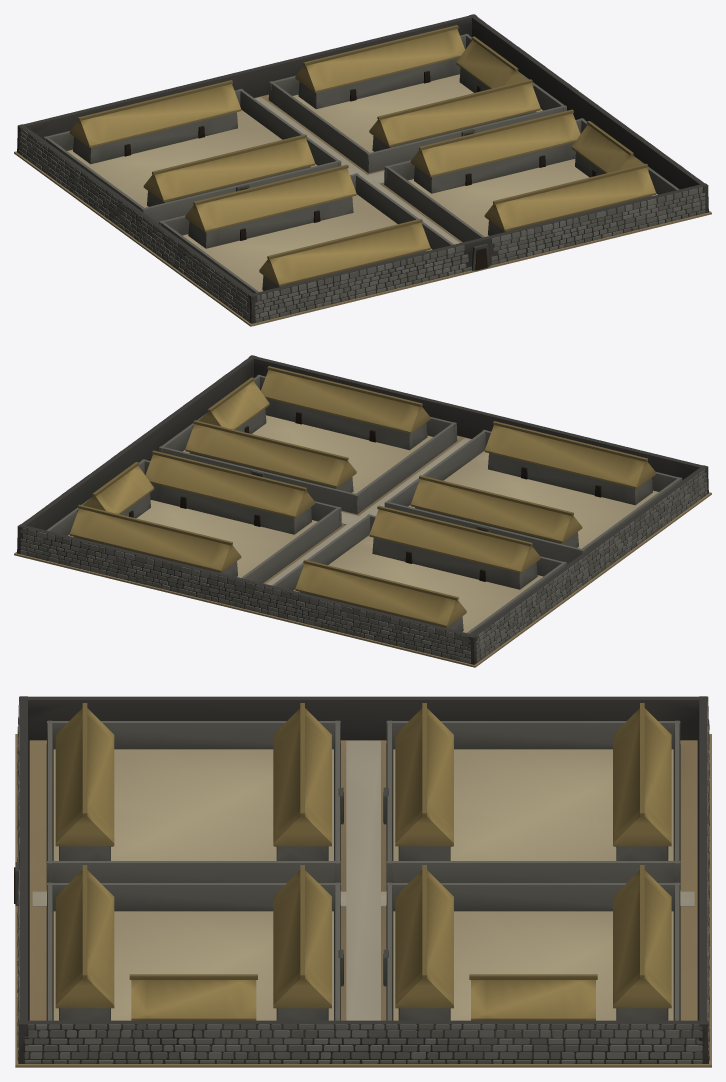
The model's file is hatunkancha.glb.
3 views of the same model, one above another, from view 1: azimuth 30°, elevation 25°; view 2: azimuth 150°, elevation 25°; view 3: azimuth 270°, elevation 25° (orthographic). The views are drawn at different scales.
Parts seen in each view (by area): view 1: p1_walls, p2_roofs, p0_ground; view 2: p1_walls, p2_roofs, p0_ground; view 3: p1_walls, p2_roofs, p0_ground.
Part boxes in pixels (box(x1,y1,x2,y2)): p1_walls: box(17, 14, 708, 323); p2_roofs: box(69, 25, 656, 286); p0_ground: box(14, 94, 711, 326); p1_walls: box(17, 355, 708, 664); p2_roofs: box(69, 366, 656, 627); p0_ground: box(14, 435, 711, 667); p1_walls: box(14, 696, 709, 1063); p2_roofs: box(55, 703, 671, 1020); p0_ground: box(15, 734, 711, 1067).
Size of the model in its own units: 90 by 7.97 by 80.15.
